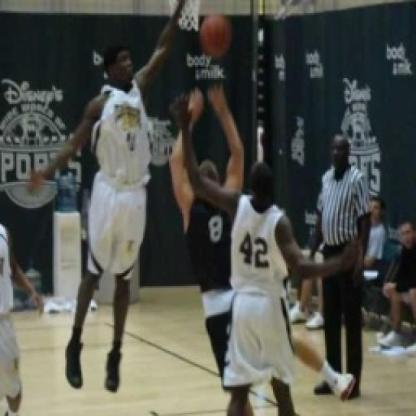basketball: (193, 9, 234, 56)
